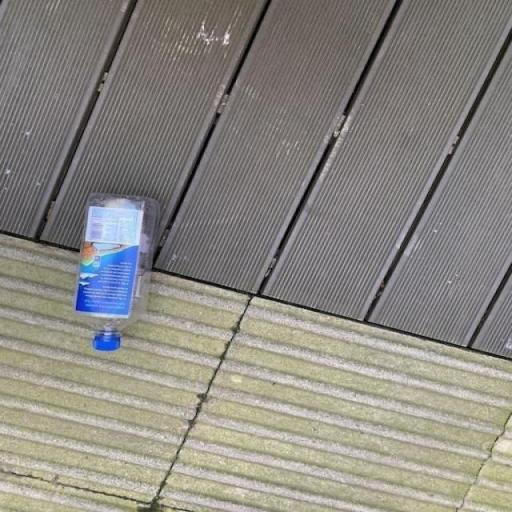plastic: (74, 192, 159, 352)
